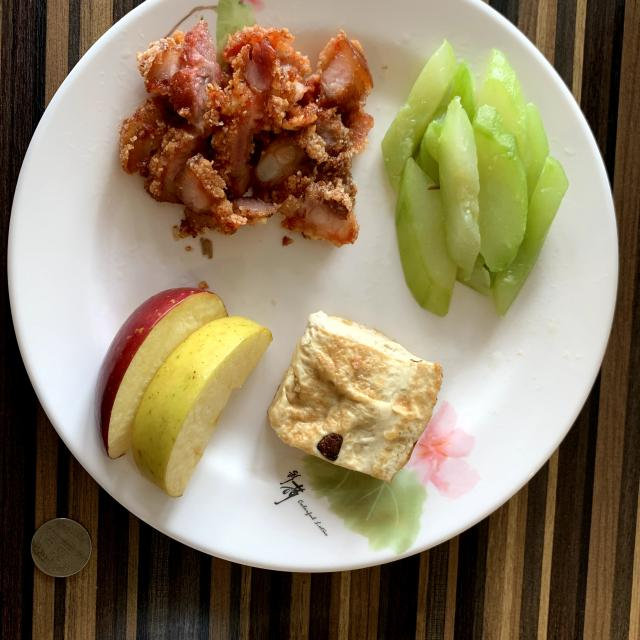apple -sliced-: (96, 289, 271, 498)
coin: (31, 519, 91, 578)
red grilled pork: (120, 22, 372, 246)
